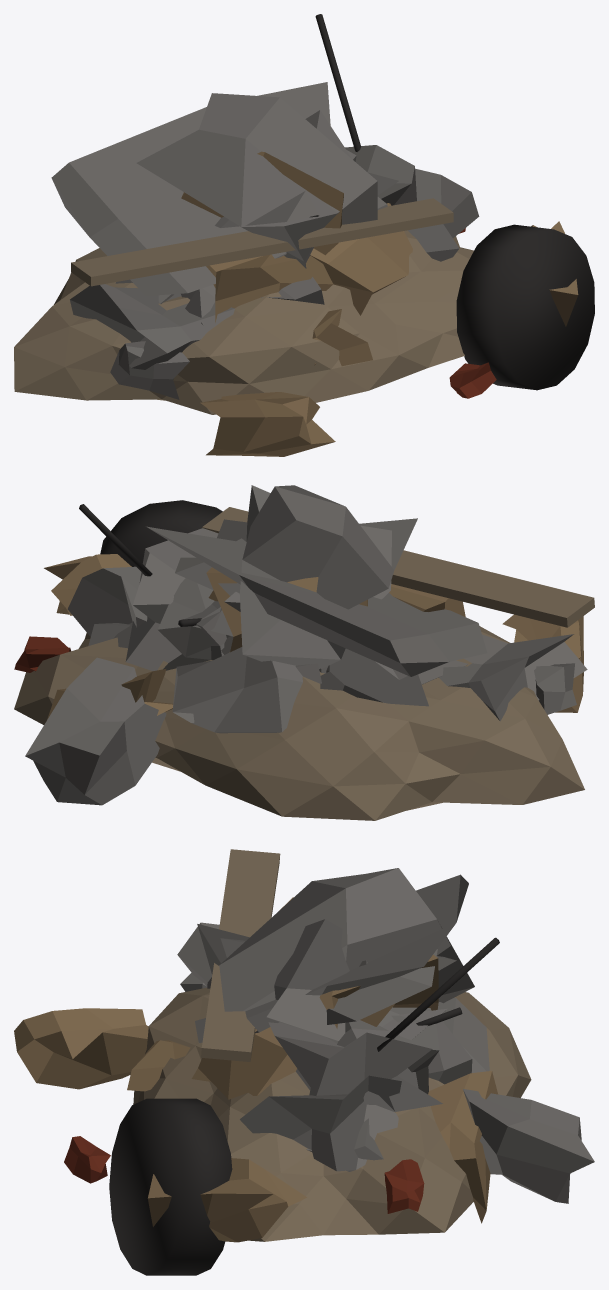
The model's file is cover_rubble_0.glb.
The picture shows the model from 3 angles, top to bottom: view 1: azimuth 30°, elevation 25°; view 2: azimuth 150°, elevation 25°; view 3: azimuth 270°, elevation 25°; orthographic projection. The views are drawn at different scales.
Visible parts, largest first — view 1: mound, lump_29, tyre, slab, plank, lump_0, lump_22, lump_30, lump_25, lump_27, lump_16, lump_21 (+8 smaller); view 2: mound, lump_29, slab, lump_2, lump_32, plank, lump_22, lump_21, lump_23, lump_27, tyre, lump_8 (+11 smaller); view 3: mound, tyre, lump_29, lump_0, lump_2, slab, lump_27, lump_21, plank, lump_28, lump_19, lump_20 (+11 smaller).
Boxes of the visible parts, left/top/right/bottom form: mound: left=14, top=230, right=473, bottom=414; lump_29: left=136, top=93, right=377, bottom=268; tyre: left=456, top=224, right=594, bottom=390; slab: left=51, top=82, right=387, bottom=295; plank: left=71, top=198, right=453, bottom=286; lump_0: left=200, top=392, right=335, bottom=456; lump_22: left=70, top=284, right=234, bottom=369; lump_30: left=310, top=203, right=412, bottom=315; lump_25: left=206, top=254, right=333, bottom=322; lump_27: left=407, top=168, right=479, bottom=261; lump_16: left=110, top=341, right=189, bottom=399; lump_21: left=345, top=145, right=416, bottom=205; mound: left=14, top=626, right=584, bottom=820; lump_29: left=239, top=485, right=417, bottom=668; slab: left=146, top=526, right=487, bottom=676; lump_2: left=25, top=657, right=166, bottom=805; lump_32: left=172, top=647, right=302, bottom=733; plank: left=202, top=507, right=594, bottom=627; lump_22: left=439, top=634, right=587, bottom=721; lump_21: left=125, top=528, right=218, bottom=670; lump_23: left=320, top=648, right=468, bottom=706; lump_27: left=67, top=566, right=147, bottom=648; tyre: left=100, top=500, right=222, bottom=566; lump_8: left=157, top=578, right=233, bottom=670; mound: left=133, top=987, right=531, bottom=1241; tyre: left=109, top=1098, right=232, bottom=1275; lump_29: left=197, top=868, right=474, bottom=1028; lump_0: left=14, top=1008, right=148, bottom=1089; lump_2: left=463, top=1089, right=594, bottom=1203; slab: left=245, top=874, right=468, bottom=1033; lump_27: left=240, top=1075, right=401, bottom=1171; lump_21: left=268, top=1022, right=442, bottom=1111; plank: left=201, top=849, right=280, bottom=1061; lump_28: left=220, top=919, right=456, bottom=1040; lump_19: left=147, top=1158, right=306, bottom=1242; lump_20: left=428, top=1071, right=498, bottom=1223.
Bounding box in the file's own units: 2.38 × 1.2 × 2.1.
